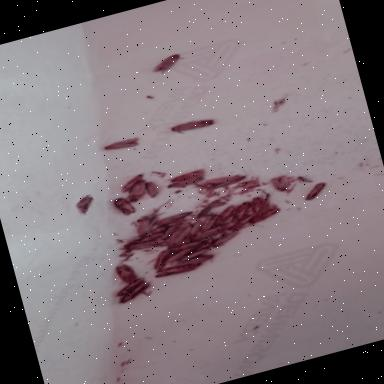pbw: (166, 110, 226, 138), (151, 258, 204, 282), (122, 233, 172, 257), (197, 169, 249, 192), (99, 134, 146, 157), (152, 49, 191, 76), (160, 172, 207, 194), (115, 281, 154, 304), (190, 223, 231, 243), (227, 210, 262, 233), (116, 274, 150, 296), (153, 208, 194, 226), (174, 252, 215, 270), (167, 220, 197, 244), (122, 178, 150, 203), (193, 197, 226, 218), (210, 202, 240, 225), (170, 166, 210, 183), (268, 172, 298, 194), (246, 192, 273, 216), (302, 180, 332, 201), (114, 261, 140, 285), (112, 192, 136, 218), (143, 177, 167, 202), (215, 227, 245, 247), (146, 248, 172, 270), (166, 244, 194, 264), (184, 240, 213, 259), (252, 204, 282, 222), (118, 172, 147, 190), (196, 212, 222, 232), (76, 192, 98, 215), (160, 220, 186, 238), (234, 199, 252, 220), (134, 216, 152, 236), (142, 230, 164, 242)
